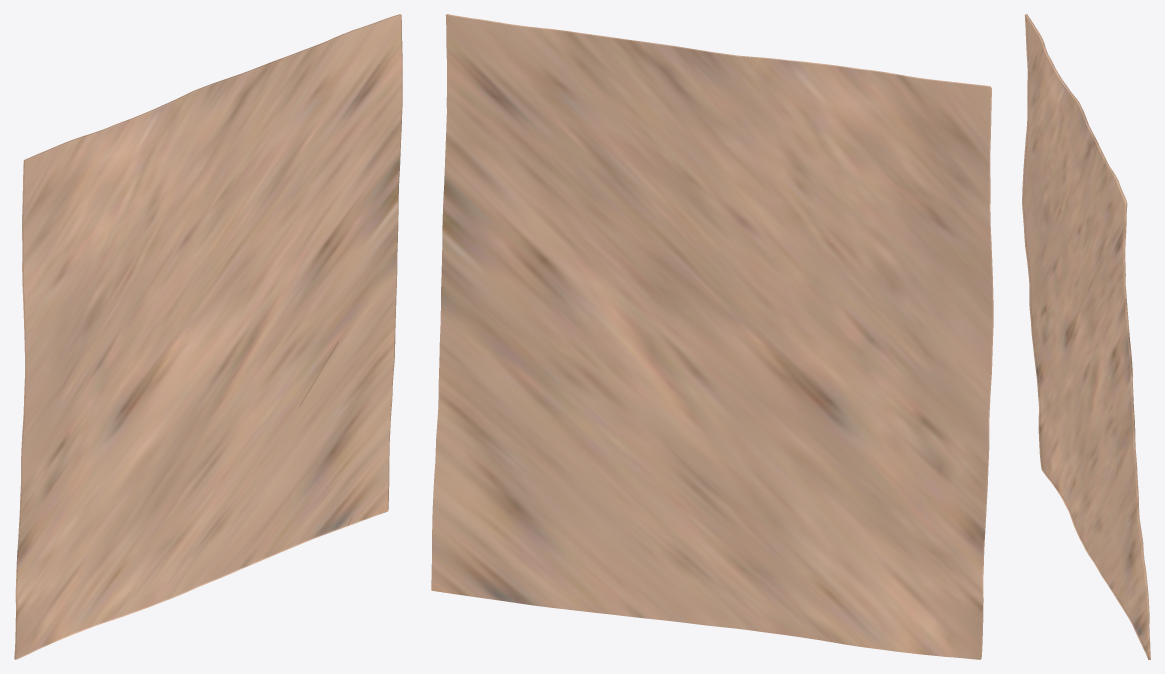
3 renders of one model, left to right at view 1: azimuth 30°, elevation 25°; view 2: azimuth 150°, elevation 25°; view 3: azimuth 270°, elevation 25°, orthographic. The views are drawn at different scales.
Bounding box in the file's own units: 10.95 × 12.25 × 3.14.
1 material, 1 textured.
